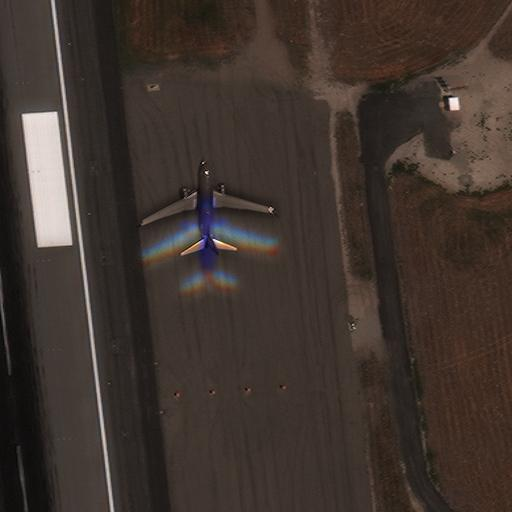Medium Civil Transport: (142, 156, 275, 256)
